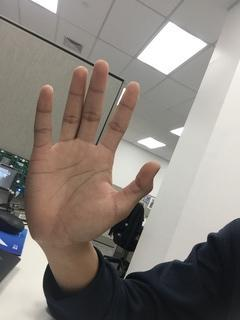hand: (23, 61, 161, 248)
